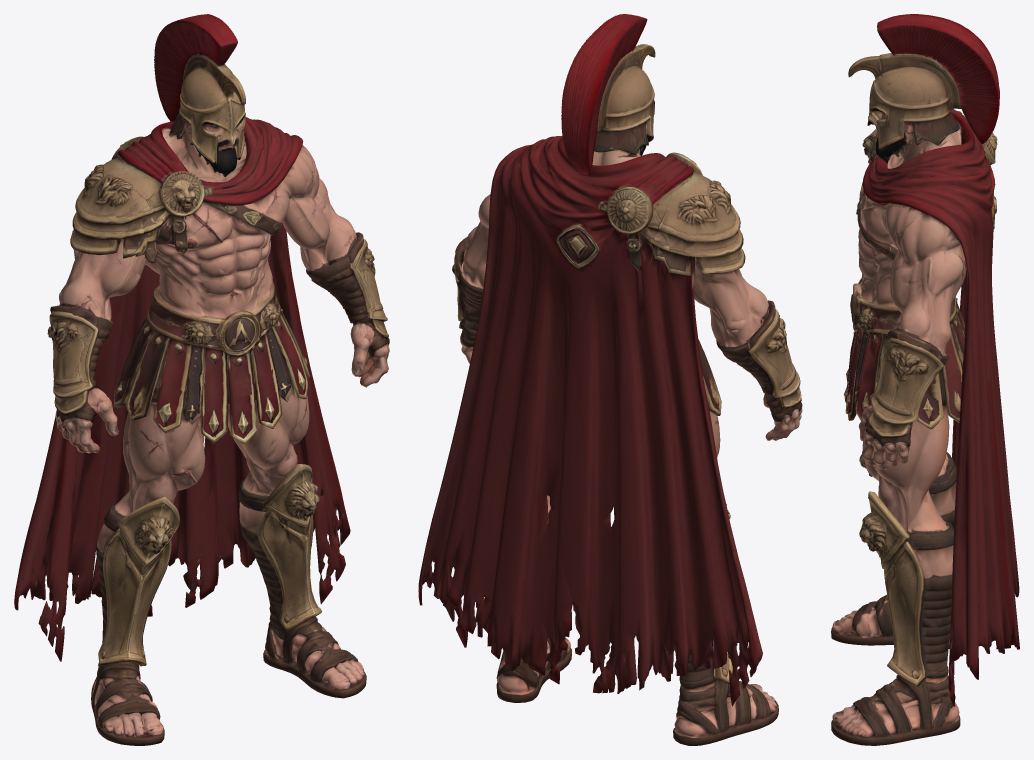
The model's file is leonid_tripo_80k.fbx.
3 views of the same model, side by side, from view 1: azimuth 30°, elevation 25°; view 2: azimuth 150°, elevation 25°; view 3: azimuth 270°, elevation 25° (orthographic). The views are drawn at different scales.
Parts seen in each view (by area): view 1: Leonid; view 2: Leonid; view 3: Leonid.
Boxes of the visible parts, x1,y1,x2,y2 form: Leonid: (14,14,389,745); Leonid: (418,14,802,745); Leonid: (831,14,1019,745).
Bounding box in the file's own units: 51.41 × 97.88 × 25.19.
Materials: 52 (52 with a texture image).
